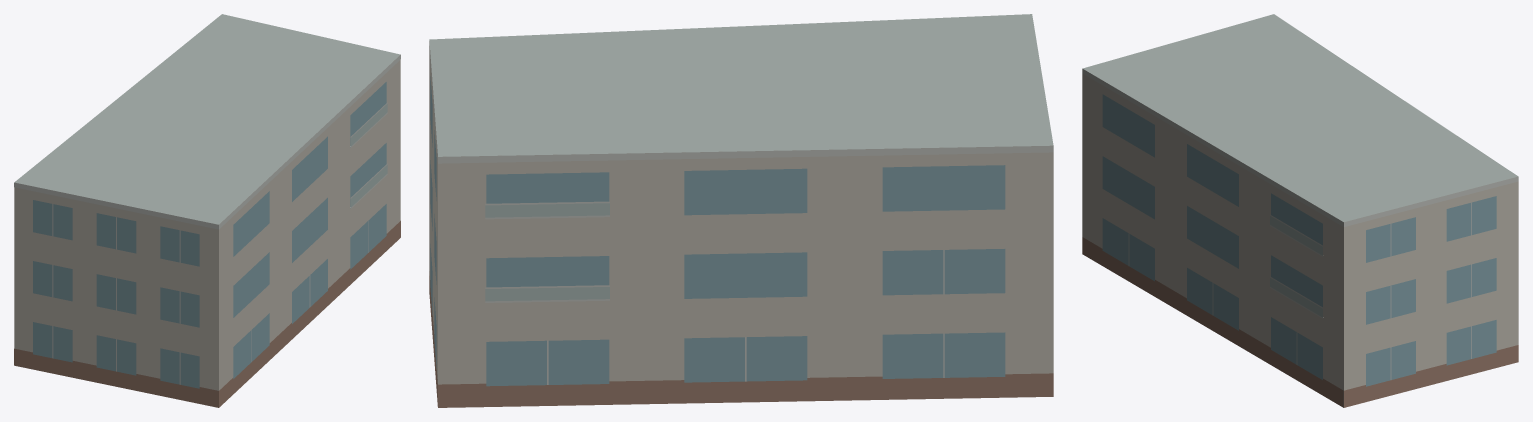
File: survey-upis-32568989.glb
3 renders of one model, left to right at view 1: azimuth 30°, elevation 25°; view 2: azimuth 150°, elevation 25°; view 3: azimuth 270°, elevation 25°, orthographic. The views are drawn at different scales.
Visible parts, largest first — view 1: survey-upis-32568989.tmp; view 2: survey-upis-32568989.tmp; view 3: survey-upis-32568989.tmp.
Part boxes in pixels (<box>): survey-upis-32568989.tmp: <box>14,14,400,407</box>; survey-upis-32568989.tmp: <box>429,14,1053,407</box>; survey-upis-32568989.tmp: <box>1082,14,1518,407</box>.
Size of the model in its own units: 22.02 by 9.15 by 19.49.
